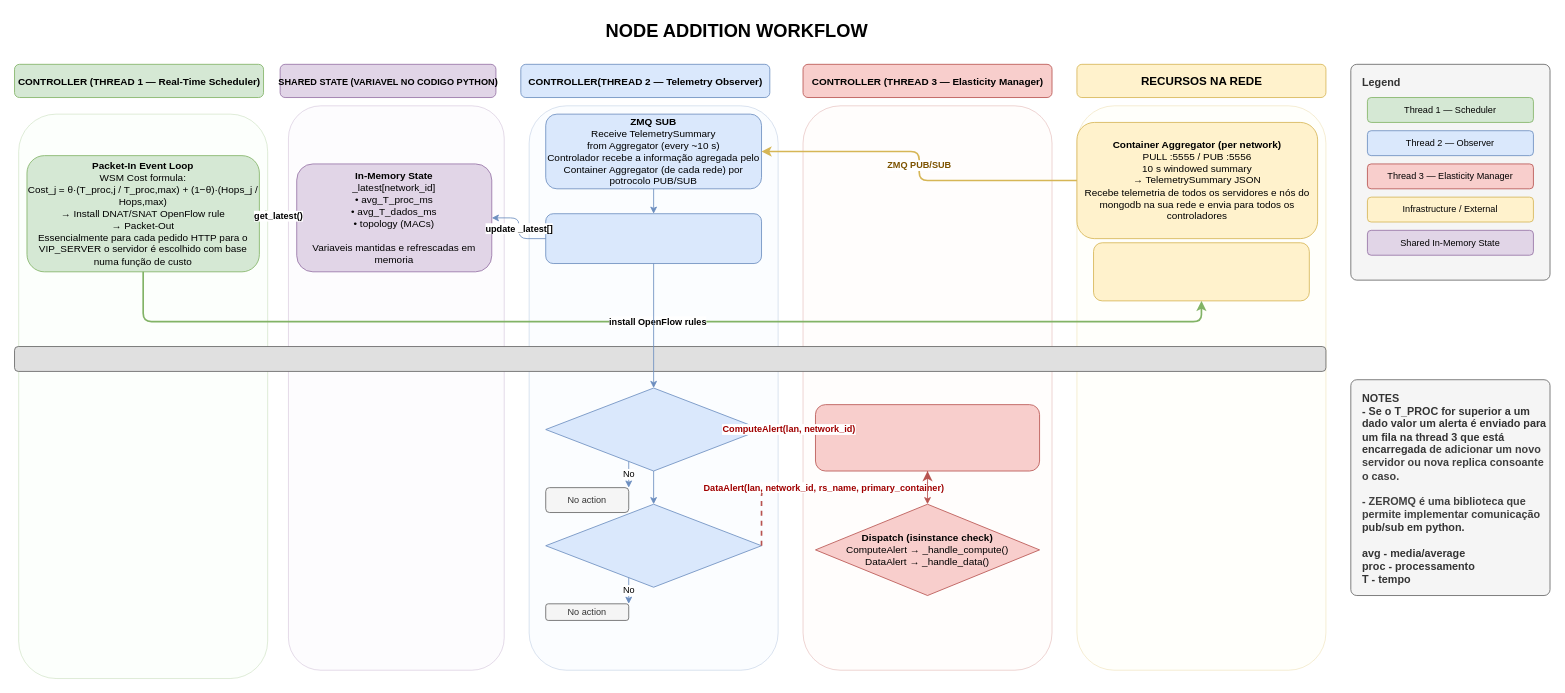
Some shapes in this 1565 by 693 pixel diagram are drawn without their labels. The shapes that lost their labels are listed below. From the top down, each one's centre as x and y in pixels, then its label:
At (x=653, y=238): "Compute T_proc T_proc = T_total − T_dados".
At (x=1201, y=271): "OVS Switch OpenFlow DNAT/SNAT rules VIP_Web | VIP_Dados".
At (x=670, y=358): "Threshold Evaluation".
At (x=653, y=429): "Evaluate Compute Threshold avg_T_proc_ms > τ_proc ?".
At (x=927, y=437): "threading.Queue ElasticityManager._queue Daemon thread blocking on queue.get()".
At (x=653, y=545): "Evaluate Data Threshold avg_T_dados_ms > τ_dados ?".
